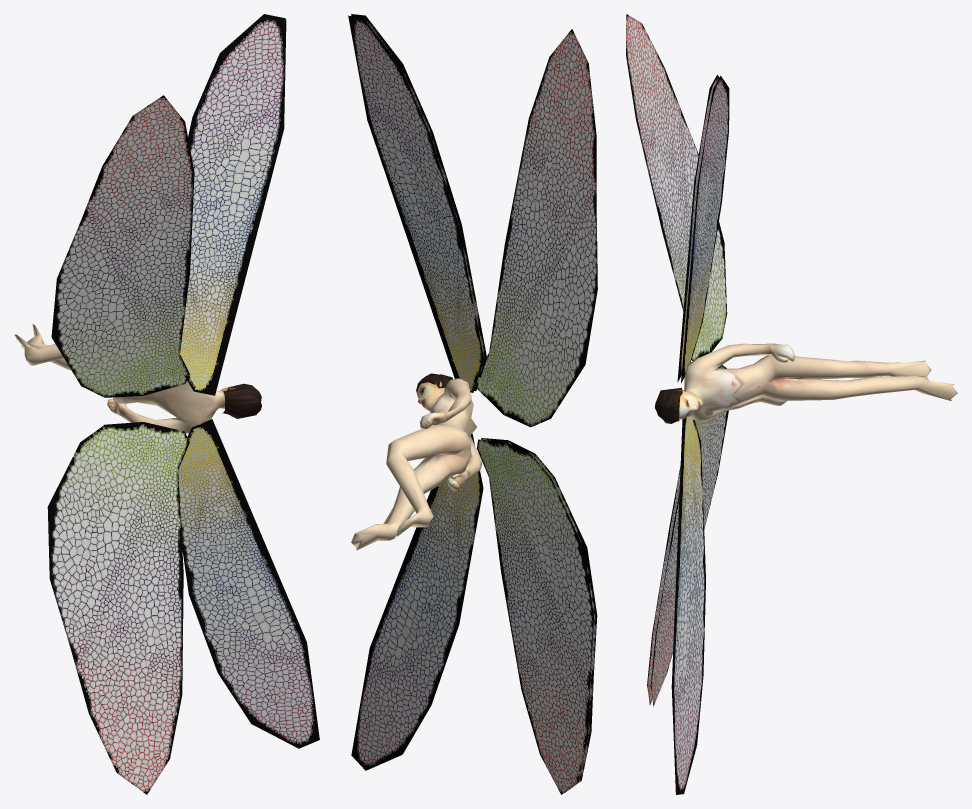
The model's file is angel_000026.obj.
3 renders of one model, left to right at view 1: azimuth 30°, elevation 25°; view 2: azimuth 150°, elevation 25°; view 3: azimuth 270°, elevation 25°, orthographic. The views are drawn at different scales.
Parts seen in each view (by area): view 1: Plane.001, Plane.002, Plane, Plane.003, body.001_omino.012, hair.003_omino.013; view 2: Plane.002, Plane.001, Plane, Plane.003, body.001_omino.012; view 3: Plane.002, body.001_omino.012, Plane, Plane.003, Plane.001, hair.003_omino.013.
Part boxes in pixels (x1=…): Plane.001: x1=47, y1=422, x2=189, y2=794; Plane.002: x1=51, y1=95, x2=194, y2=397; Plane: x1=178, y1=419, x2=319, y2=748; Plane.003: x1=180, y1=14, x2=286, y2=395; body.001_omino.012: x1=14, y1=324, x2=235, y2=433; hair.003_omino.013: x1=223, y1=383, x2=261, y2=418; Plane.002: x1=476, y1=29, x2=597, y2=427; Plane.001: x1=476, y1=438, x2=597, y2=794; Plane: x1=351, y1=434, x2=483, y2=770; Plane.003: x1=348, y1=14, x2=486, y2=392; body.001_omino.012: x1=351, y1=378, x2=482, y2=550; Plane.002: x1=626, y1=14, x2=727, y2=360; body.001_omino.012: x1=671, y1=343, x2=957, y2=420; Plane: x1=671, y1=416, x2=705, y2=794; Plane.003: x1=677, y1=74, x2=729, y2=383; Plane.001: x1=647, y1=365, x2=728, y2=706; hair.003_omino.013: x1=655, y1=388, x2=685, y2=423.
Size of the model in its own units: 2.52 by 6.99 by 2.96.
